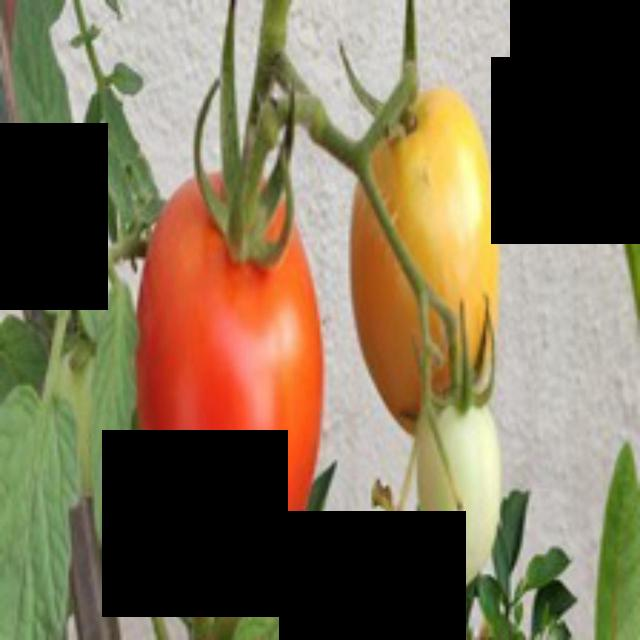tomato: (125, 142, 343, 613)
